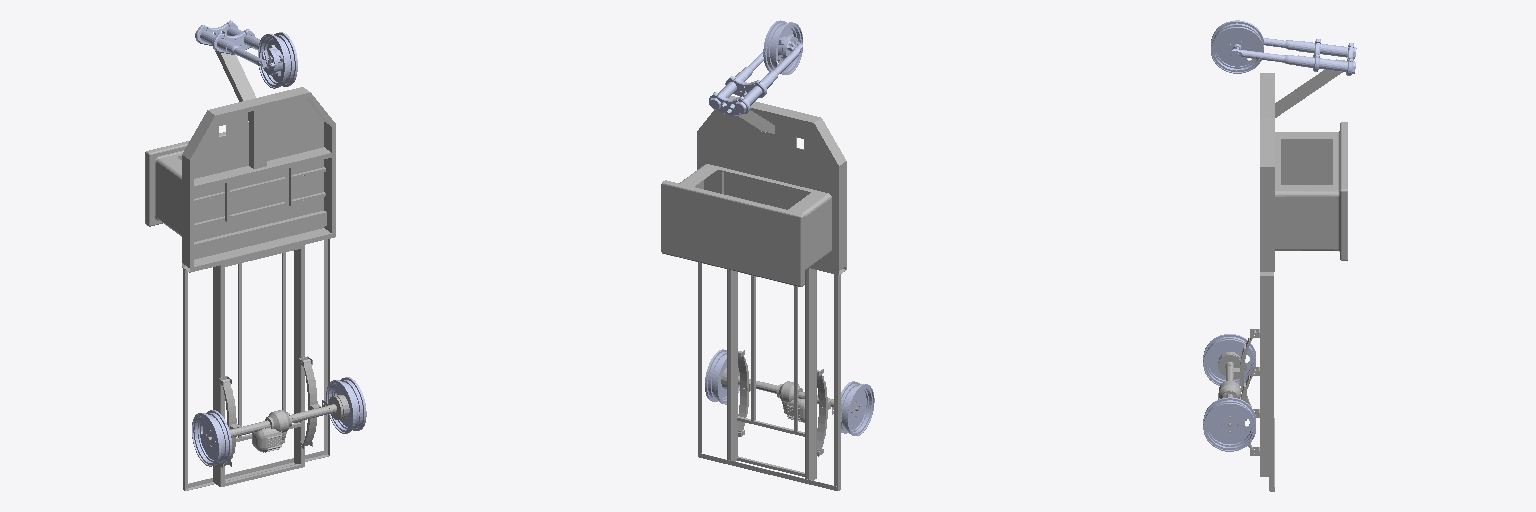
URDF robot description (FULL VEHICLE ASY_1):
<?xml version="1.0" encoding="utf-8"?>
<!-- This URDF was automatically created by SolidWorks to URDF Exporter! Originally created by [author] ([email redacted]) 
     Commit Version: 1.6.0-1-g15f4949  Build Version: 1.6.7594.29634
     For more information, please see http://wiki.ros.org/sw_urdf_exporter -->
<robot
  name="FULL VEHICLE ASY_1">
  <link
    name="Chassis">
    <inertial>
      <origin
        xyz="0.573017193776333 -0.194811261558842 -0.312404680017113"
        rpy="0 0 0" />
      <mass
        value="42.3305763851261" />
      <inertia
        ixx="1.32400409003049"
        ixy="-5.47530430368531E-07"
        ixz="-0.0108533000365126"
        iyy="4.07301378956163"
        iyz="-0.0370974629602942"
        izz="3.13522701218487" />
    </inertial>
    <visual>
      <origin
        xyz="0 0 0"
        rpy="0 0 0" />
      <geometry>
        <mesh
          filename="package://FULL VEHICLE ASY_1/meshes/Chassis.STL" />
      </geometry>
      <material
        name="">
        <color
          rgba="0.752941176470588 0.752941176470588 0.752941176470588 1" />
      </material>
    </visual>
    <collision>
      <origin
        xyz="0 0 0"
        rpy="0 0 0" />
      <geometry>
        <mesh
          filename="package://FULL VEHICLE ASY_1/meshes/Chassis.STL" />
      </geometry>
    </collision>
  </link>
  <link
    name="Steering">
    <inertial>
      <origin
        xyz="-0.00219945835481239 -0.368653313466684 -0.00294571826150181"
        rpy="0 0 0" />
      <mass
        value="4.35864658175105" />
      <inertia
        ixx="0.035808504311998"
        ixy="2.86743145042425E-06"
        ixz="0.00043597663524228"
        iyy="0.0092797593941919"
        iyz="1.44196099363333E-05"
        izz="0.0405521494200921" />
    </inertial>
    <visual>
      <origin
        xyz="0 0 0"
        rpy="0 0 0" />
      <geometry>
        <mesh
          filename="package://FULL VEHICLE ASY_1/meshes/Steering.STL" />
      </geometry>
      <material
        name="">
        <color
          rgba="0.792156862745098 0.819607843137255 0.933333333333333 1" />
      </material>
    </visual>
    <collision>
      <origin
        xyz="0 0 0"
        rpy="0 0 0" />
      <geometry>
        <mesh
          filename="package://FULL VEHICLE ASY_1/meshes/Steering.STL" />
      </geometry>
    </collision>
  </link>
  <joint
    name="Steering"
    type="continuous">
    <origin
      xyz="0.5804791541301 0.0694321603143924 0.886803411953135"
      rpy="-0.141050341623528 0 0" />
    <parent
      link="Chassis" />
    <child
      link="Steering" />
    <axis
      xyz="0 -1 0" />
  </joint>
  <link
    name="Front_wheel">
    <inertial>
      <origin
        xyz="-0.0391648619324694 0.00286263655941621 0.00579793609474111"
        rpy="0 0 0" />
      <mass
        value="1.48112921953003" />
      <inertia
        ixx="0.0208248156846066"
        ixy="0.000123508914882059"
        ixz="-0.000864149184915356"
        iyy="0.0111279650903332"
        iyz="3.41600464714938E-05"
        izz="0.0111798555885646" />
    </inertial>
    <visual>
      <origin
        xyz="0 0 0"
        rpy="0 0 0" />
      <geometry>
        <mesh
          filename="package://FULL VEHICLE ASY_1/meshes/Front_wheel.STL" />
      </geometry>
      <material
        name="">
        <color
          rgba="0.792156862745098 0.819607843137255 0.933333333333333 1" />
      </material>
    </visual>
    <collision>
      <origin
        xyz="0 0 0"
        rpy="0 0 0" />
      <geometry>
        <mesh
          filename="package://FULL VEHICLE ASY_1/meshes/Front_wheel.STL" />
      </geometry>
    </collision>
  </link>
  <joint
    name="Front_wheel"
    type="continuous">
    <origin
      xyz="-0.0255963081694544 -0.697292952790359 0.0044320095770034"
      rpy="3.00054231196627 0 3.14159265358979" />
    <parent
      link="Steering" />
    <child
      link="Front_wheel" />
    <axis
      xyz="-0.996007247148133 -0.0125501927179166 0.0883858376163311" />
  </joint>
  <link
    name="Back_wheel_1">
    <inertial>
      <origin
        xyz="0.000777643244766257 -0.000887749458798659 6.08546578977354E-05"
        rpy="0 0 0" />
      <mass
        value="1.06720495669598" />
      <inertia
        ixx="0.0193062063819411"
        ixy="2.72567691181148E-06"
        ixz="7.19872612730974E-07"
        iyy="0.0102290694834791"
        iyz="-7.70595475164233E-06"
        izz="0.010137494452828" />
    </inertial>
    <visual>
      <origin
        xyz="0 0 0"
        rpy="0 0 0" />
      <geometry>
        <mesh
          filename="package://FULL VEHICLE ASY_1/meshes/Back_wheel_1.STL" />
      </geometry>
      <material
        name="">
        <color
          rgba="0.792156862745098 0.819607843137255 0.933333333333333 1" />
      </material>
    </visual>
    <collision>
      <origin
        xyz="0 0 0"
        rpy="0 0 0" />
      <geometry>
        <mesh
          filename="package://FULL VEHICLE ASY_1/meshes/Back_wheel_1.STL" />
      </geometry>
    </collision>
  </link>
  <joint
    name="Back_wheel_1"
    type="continuous">
    <origin
      xyz="1.04069481833247 -0.663239713487483 -1.35218656184676"
      rpy="3.14159265358979 0 3.14159265358979" />
    <parent
      link="Chassis" />
    <child
      link="Back_wheel_1" />
    <axis
      xyz="-1 0 0" />
  </joint>
  <link
    name="Back_wheel_2">
    <inertial>
      <origin
        xyz="0.000777643244766368 -0.000887749458798326 6.08546578981795E-05"
        rpy="0 0 0" />
      <mass
        value="1.06720495669597" />
      <inertia
        ixx="0.0193062063819408"
        ixy="2.72567691180757E-06"
        ixz="7.19872612724851E-07"
        iyy="0.010229069483479"
        iyz="-7.70595475165993E-06"
        izz="0.0101374944528278" />
    </inertial>
    <visual>
      <origin
        xyz="0 0 0"
        rpy="0 0 0" />
      <geometry>
        <mesh
          filename="package://FULL VEHICLE ASY_1/meshes/Back_wheel_2.STL" />
      </geometry>
      <material
        name="">
        <color
          rgba="0.792156862745098 0.819607843137255 0.933333333333333 1" />
      </material>
    </visual>
    <collision>
      <origin
        xyz="0 0 0"
        rpy="0 0 0" />
      <geometry>
        <mesh
          filename="package://FULL VEHICLE ASY_1/meshes/Back_wheel_2.STL" />
      </geometry>
    </collision>
  </link>
  <joint
    name="Back_wheel_2"
    type="continuous">
    <origin
      xyz="0.123294818332466 -0.663239713487483 -1.35218656184675"
      rpy="3.14159265358979 0 3.14159265358979" />
    <parent
      link="Chassis" />
    <child
      link="Back_wheel_2" />
    <axis
      xyz="-1 0 0" />
  </joint>
</robot>

--- Facts derived from the render (not from the file) ---
3 views of the same robot in one strip: view 1: azimuth 30°, elevation 25°; view 2: azimuth 150°, elevation 25°; view 3: azimuth 270°, elevation 25° (orthographic).
Robot: FULL VEHICLE ASY_1 — 5 links, 4 joints (4 continuous); root link Chassis; default pose: all joints at 0.
Visible links, largest first — view 1: Chassis, Steering, Back_wheel_2, Front_wheel, Back_wheel_1; view 2: Chassis, Steering, Back_wheel_2, Front_wheel, Back_wheel_1; view 3: Chassis, Back_wheel_1, Steering, Front_wheel, Back_wheel_2.
Boxes of the visible links, bbox=[...] form: Chassis: bbox=[145, 51, 349, 490]; Steering: bbox=[195, 20, 275, 74]; Back_wheel_2: bbox=[192, 410, 231, 466]; Front_wheel: bbox=[258, 32, 297, 88]; Back_wheel_1: bbox=[326, 377, 366, 433]; Chassis: bbox=[661, 96, 860, 490]; Steering: bbox=[709, 37, 802, 115]; Back_wheel_2: bbox=[841, 381, 874, 435]; Front_wheel: bbox=[763, 20, 802, 74]; Back_wheel_1: bbox=[705, 349, 739, 404]; Chassis: bbox=[1218, 59, 1347, 491]; Back_wheel_1: bbox=[1203, 397, 1255, 451]; Steering: bbox=[1231, 38, 1356, 75]; Front_wheel: bbox=[1211, 20, 1263, 73]; Back_wheel_2: bbox=[1203, 334, 1255, 385].
Size in the robot's own frame: 1.01 by 0.9347 by 2.94 metres.
Meshes: 5 distinct files referenced, 5 mesh visuals loaded (5 binary STL).